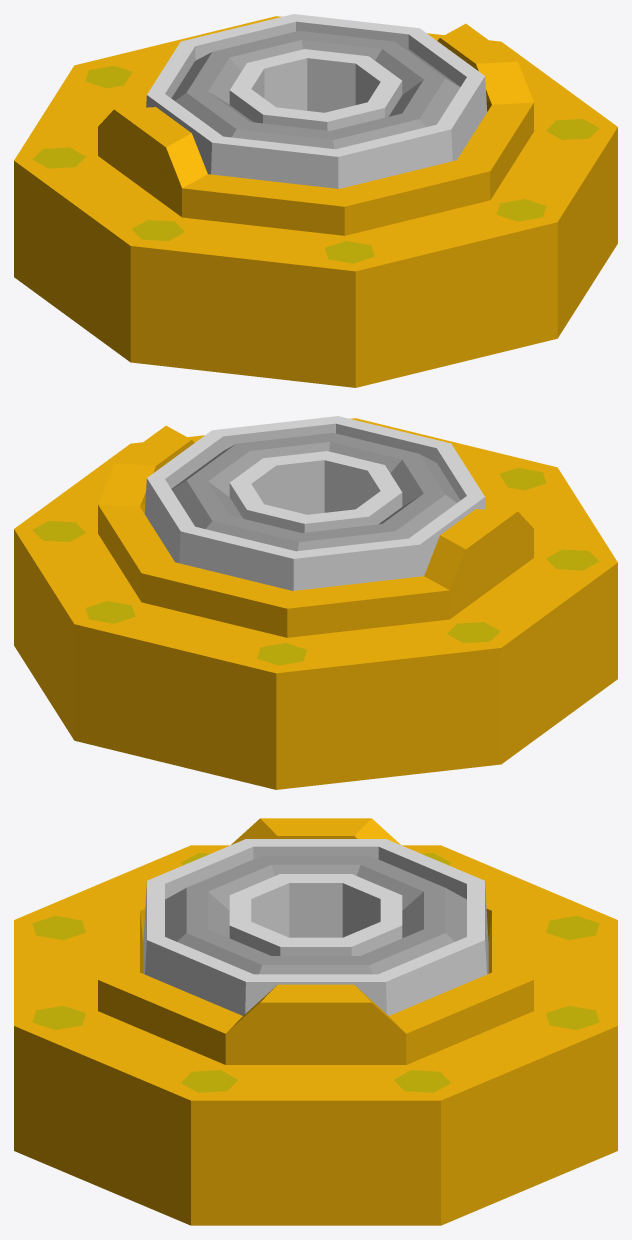
File: fpe_hose_connector.dae
3 renders of one model, top to bottom at view 1: azimuth 30°, elevation 25°; view 2: azimuth 150°, elevation 25°; view 3: azimuth 270°, elevation 25°, orthographic. The views are drawn at different scales.
Visible parts, largest first — view 1: hose_connector; view 2: hose_connector; view 3: hose_connector.
Part boxes in pixels (box(x1,y1,x2,y2)): hose_connector: box(14, 14, 617, 387); hose_connector: box(14, 416, 617, 789); hose_connector: box(14, 818, 617, 1225).
Bounding box in the file's own units: 0.175 × 0.175 × 0.06.
